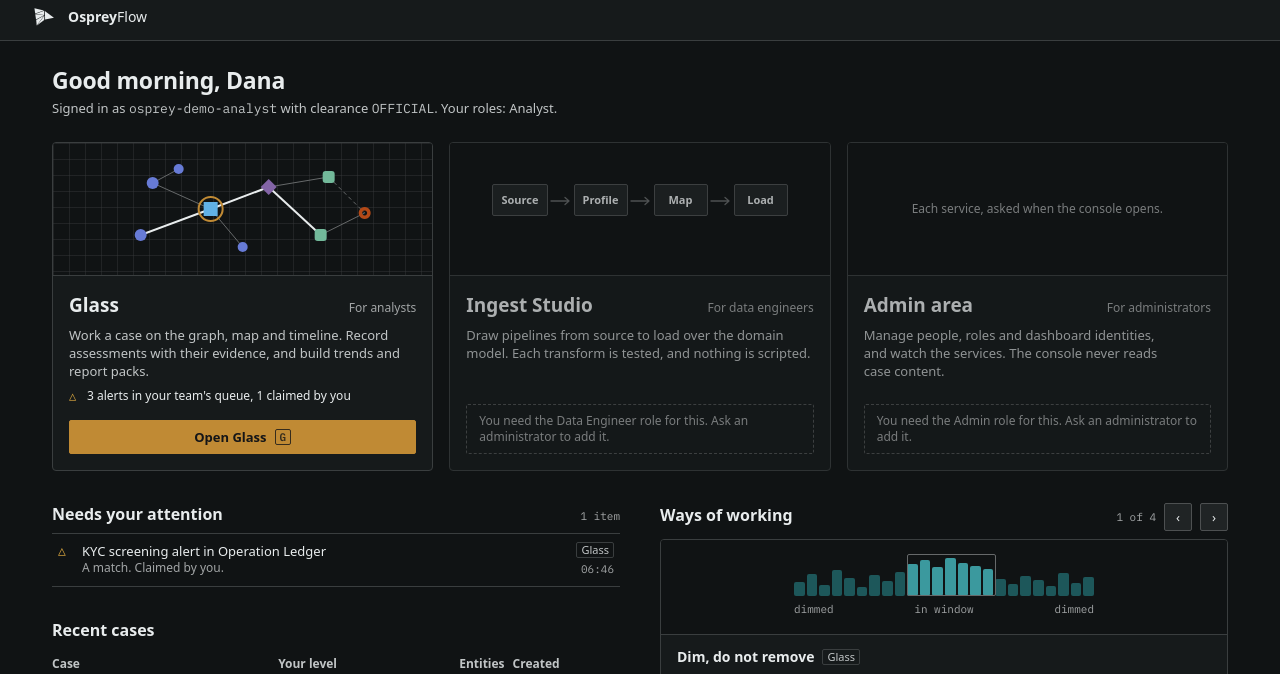
Scenario: Home › steps through the ways of working, saying which one of four, politely
Expected: the text "1 of 4" is shown, x1=1116 y1=508 x2=1156 y2=526
Expected: the heading "Dim, do not remove" is shown, x1=677 y1=647 x2=814 y2=667
Click the button named "Next way of working".
click(1214, 517)  # box x1=1200 y1=503 x2=1228 y2=531
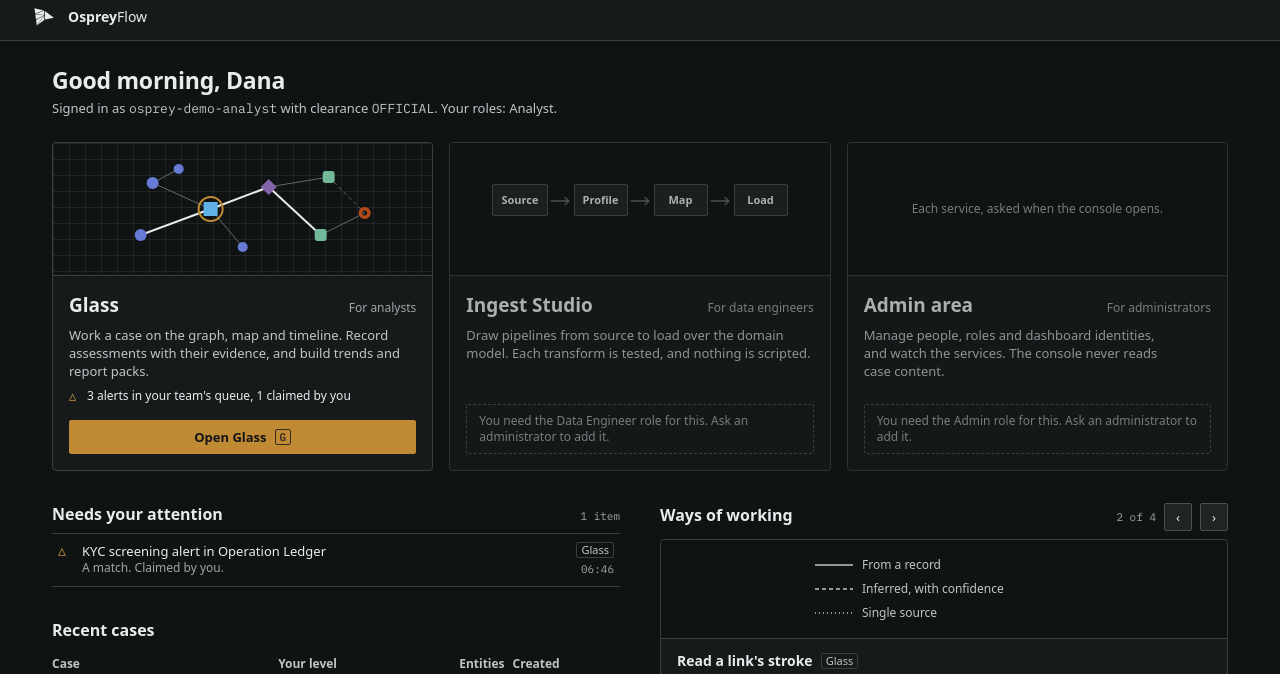
Expected: the heading "Read a link's stroke" is shown, x1=677 y1=651 x2=813 y2=671
Click the button named "Previous way of working".
click(1178, 517)  # box x1=1164 y1=503 x2=1192 y2=531
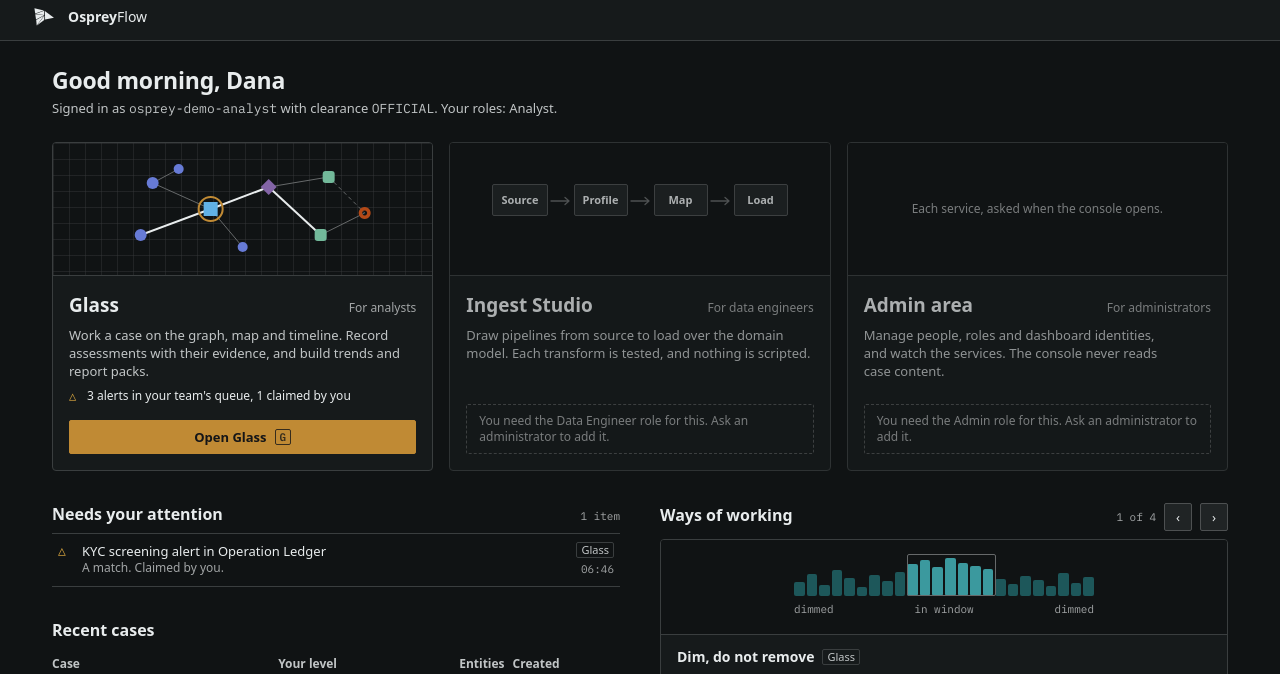
Click the button named "Previous way of working".
click(1178, 517)  # box x1=1164 y1=503 x2=1192 y2=531
(page scrolled)
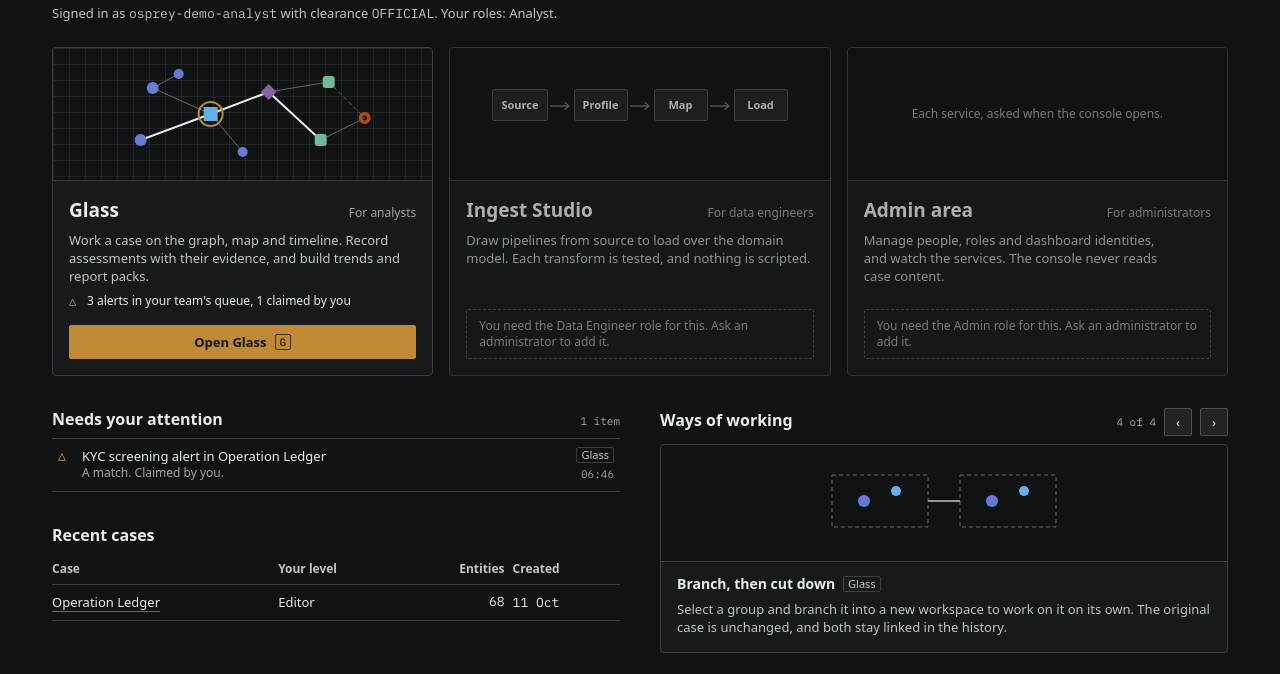
Expected: the element that starts with "Branch, then cut down" is shown, x1=660 y1=444 x2=1228 y2=653
Expected: the text "4 of 4" is shown, x1=1116 y1=413 x2=1156 y2=431
